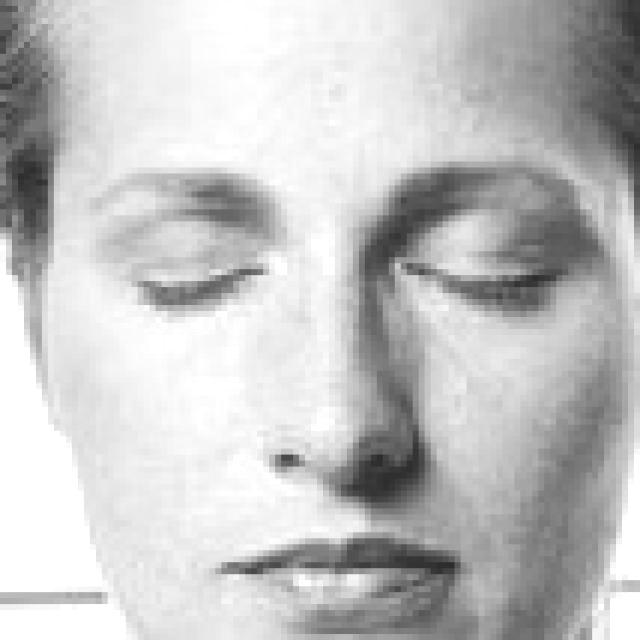real: (44, 0, 640, 640), (90, 198, 587, 336)
